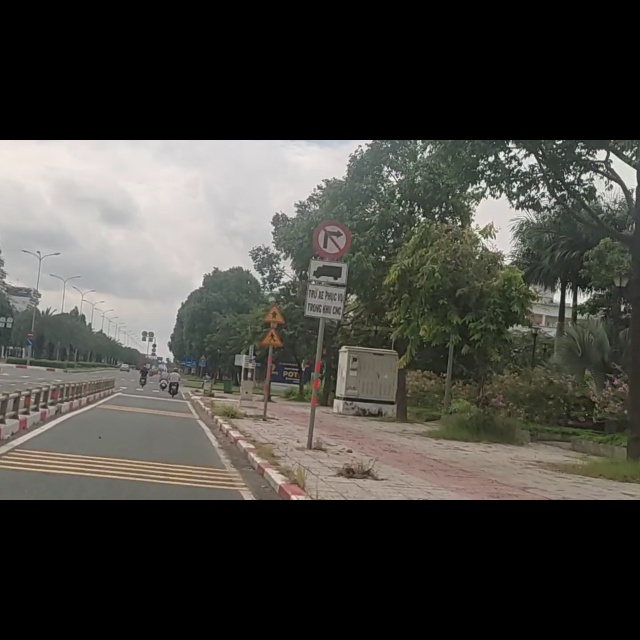bien_nguy_hiem: (304, 211, 346, 321), (309, 140, 352, 209), (261, 287, 287, 328), (259, 333, 285, 370)
